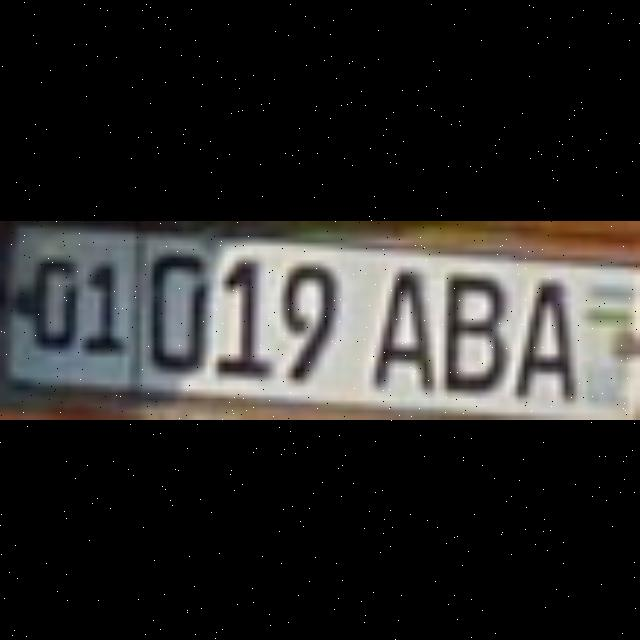0: (140, 244, 206, 360), (24, 249, 76, 343)
1: (200, 250, 270, 372), (76, 255, 124, 349)
9: (276, 250, 334, 372)
A: (504, 268, 570, 390), (364, 262, 428, 384)
B: (440, 262, 500, 384)
